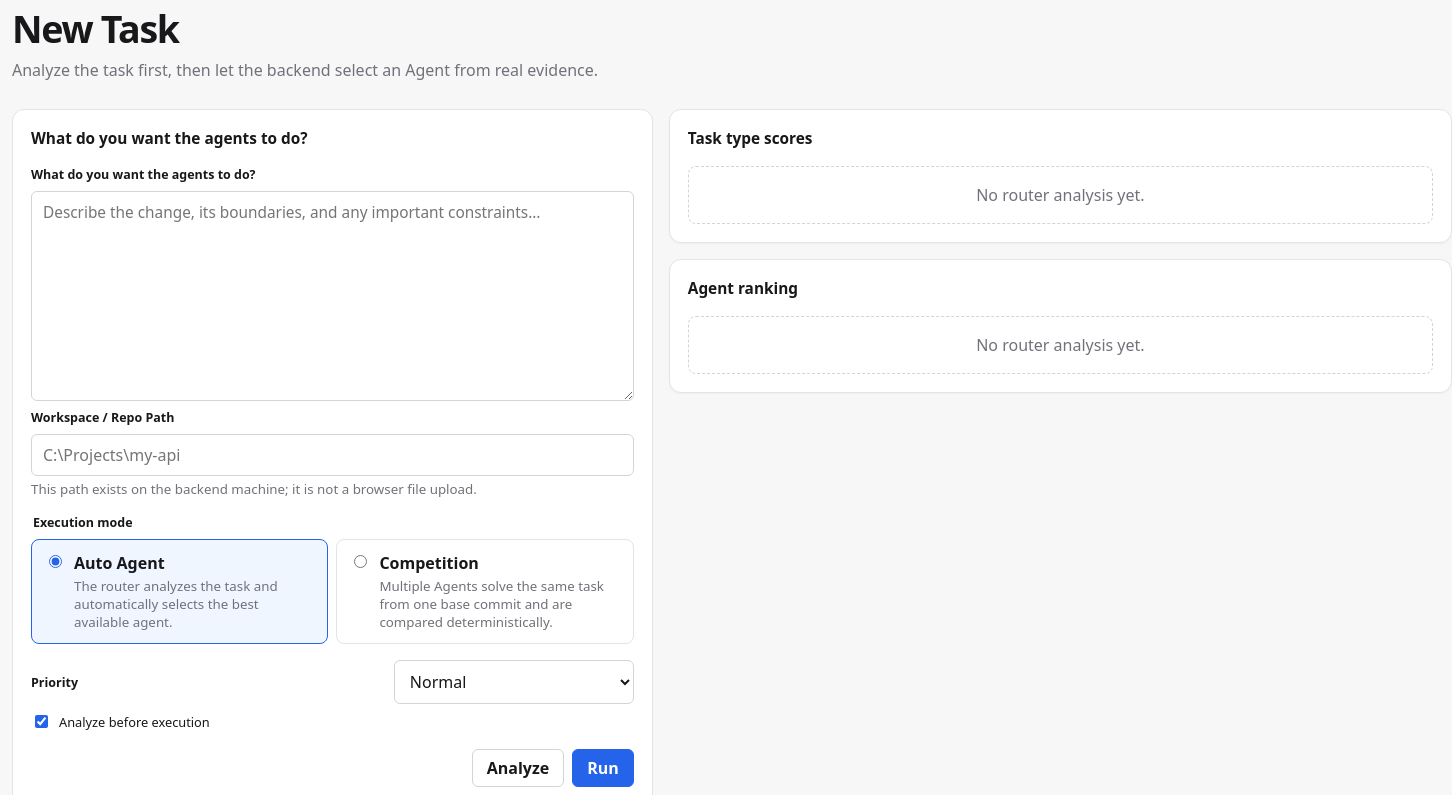
Test: Run Task page › validates task and workspace before execution
Click the button "Run" at (603, 768), box [572,750,634,788]
(page scrolled)
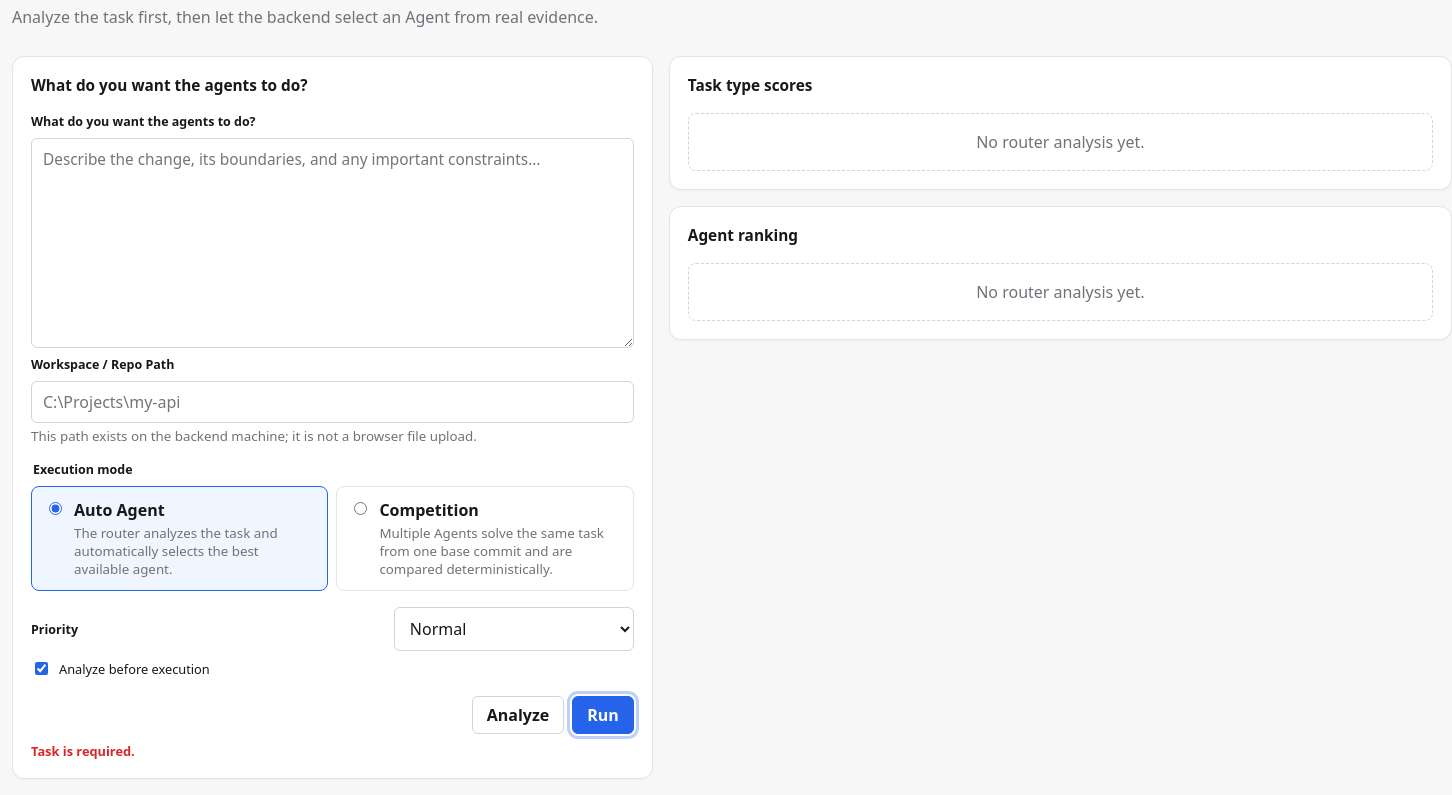
Now the message shows "Task is required", box [31,742,135,760]
